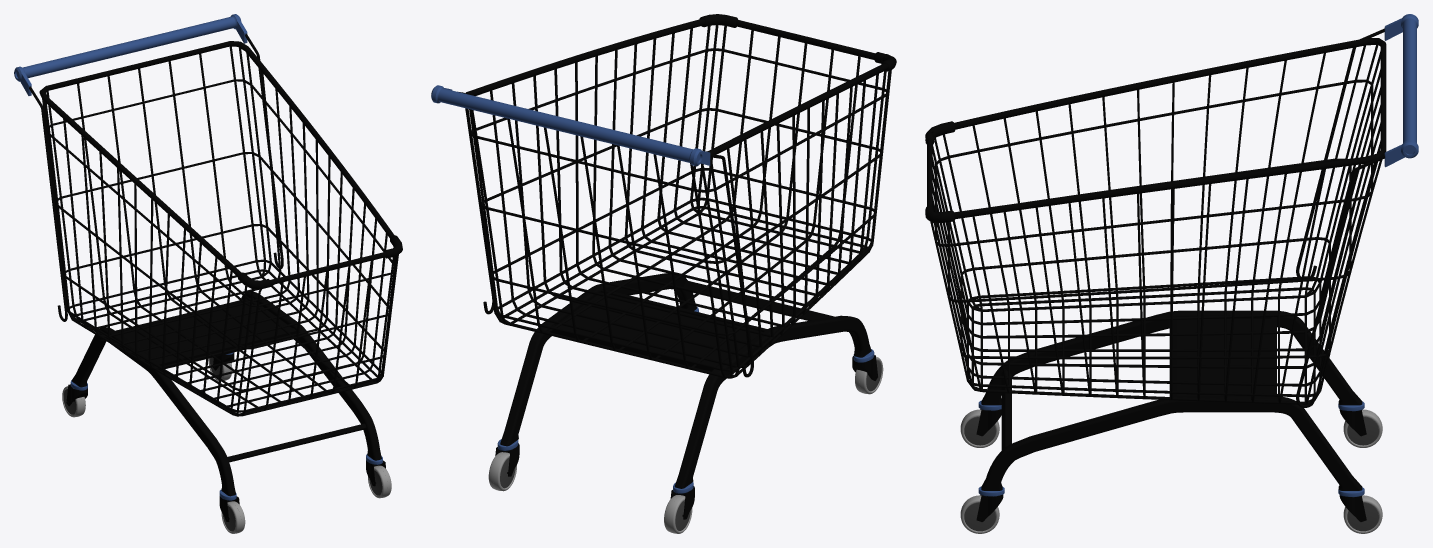
Rendered from Shopping-Cart.fbx.
3 renders of one model, left to right at view 1: azimuth 30°, elevation 25°; view 2: azimuth 150°, elevation 25°; view 3: azimuth 270°, elevation 25°, orthographic. The views are drawn at different scales.
Visible parts, largest first — view 1: Sweep_1, Sweep_4, Cube_1, Cylinder_5, Sweep_3, Sweep_2; view 2: Sweep_1, Sweep_4, Cube_1, Cylinder_5, Sweep_3, Tube_2_3, Tube; view 3: Sweep_1, Sweep_4, Cube_1, Cylinder_5, Sweep_2, Sweep_3.
Boxes of the visible parts, x1,y1,x2,y2 form: Sweep_1: [39, 41, 402, 416]; Sweep_4: [72, 291, 381, 495]; Cube_1: [121, 301, 292, 361]; Cylinder_5: [14, 14, 247, 95]; Sweep_3: [29, 86, 67, 321]; Sweep_2: [245, 34, 283, 268]; Sweep_1: [465, 14, 896, 378]; Sweep_4: [500, 273, 871, 487]; Cube_1: [560, 292, 762, 364]; Cylinder_5: [431, 85, 710, 166]; Sweep_3: [710, 154, 753, 377]; Tube_2_3: [664, 495, 692, 533]; Tube: [488, 452, 516, 491]; Sweep_1: [925, 38, 1386, 404]; Sweep_4: [981, 310, 1361, 489]; Cube_1: [1176, 318, 1271, 396]; Cylinder_5: [1384, 14, 1418, 167]; Sweep_2: [1296, 155, 1385, 407]; Sweep_3: [1296, 28, 1384, 276].
Size of the model in its own units: 199 by 294 by 319.
